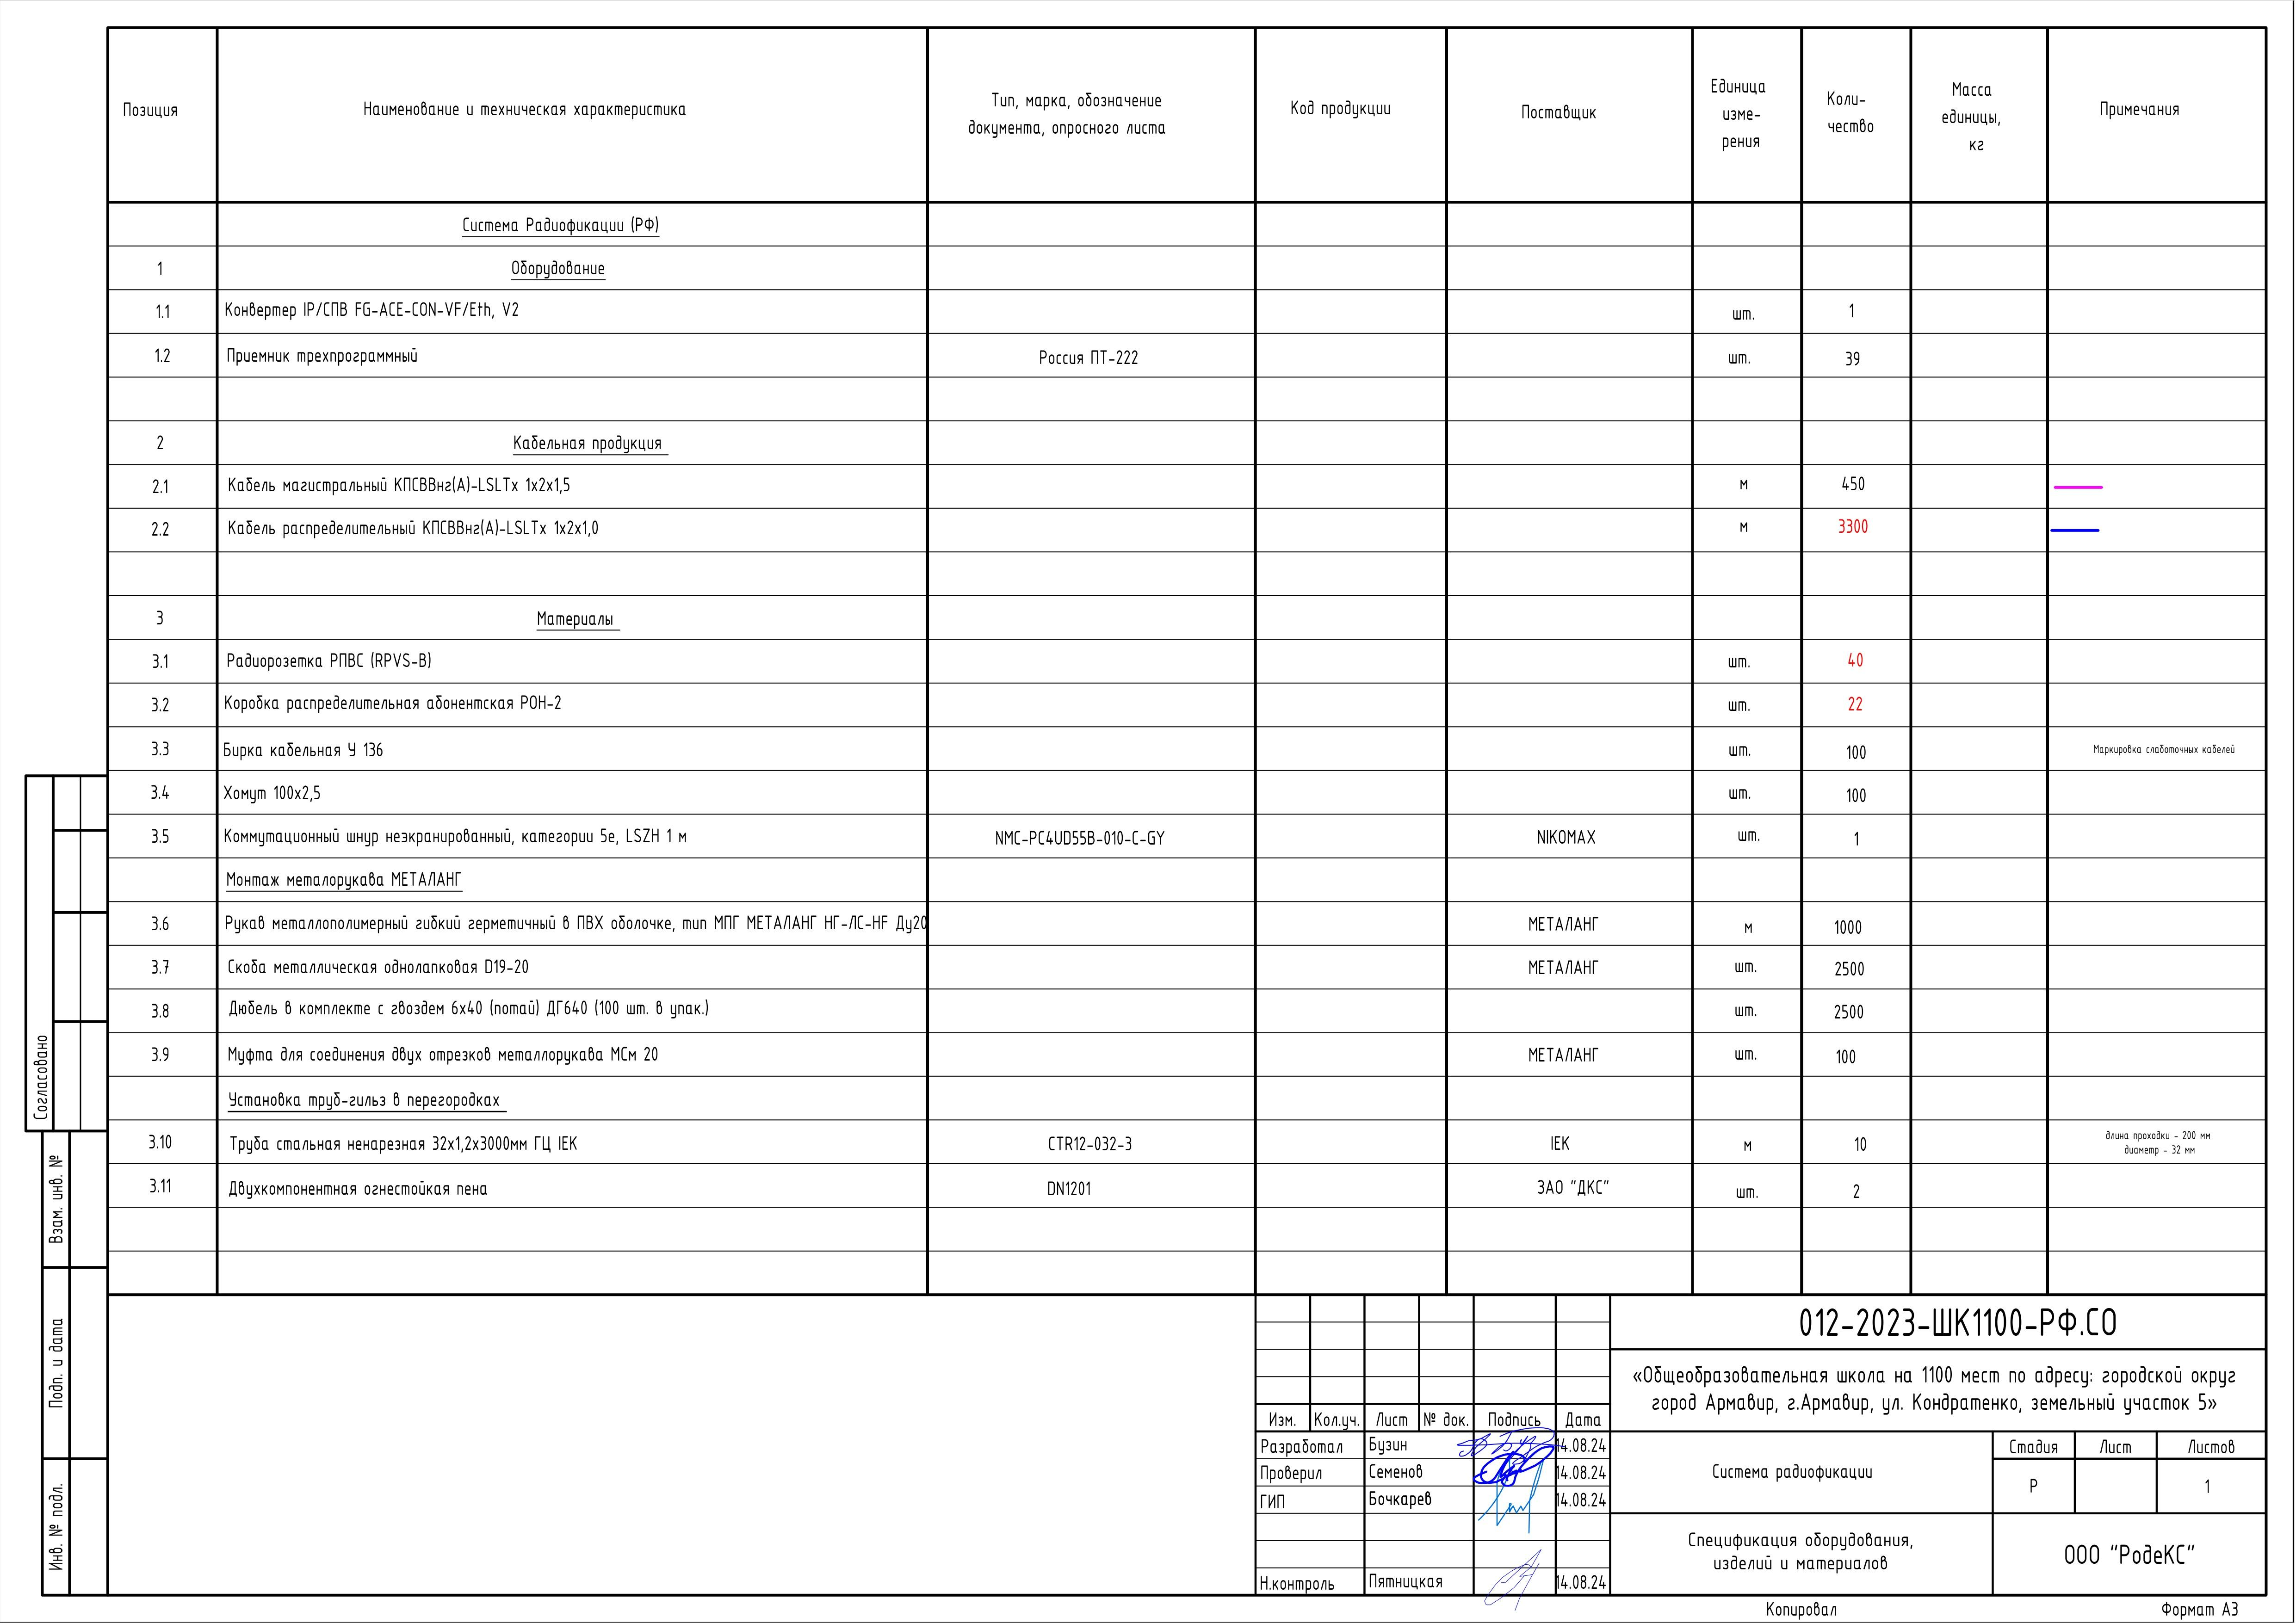Name of costs: (218, 202, 928, 1295)
Note: (926, 202, 1254, 1293)
Quantity: (1801, 200, 1911, 1295)
Unit of measurement: (1693, 202, 1802, 1295)
